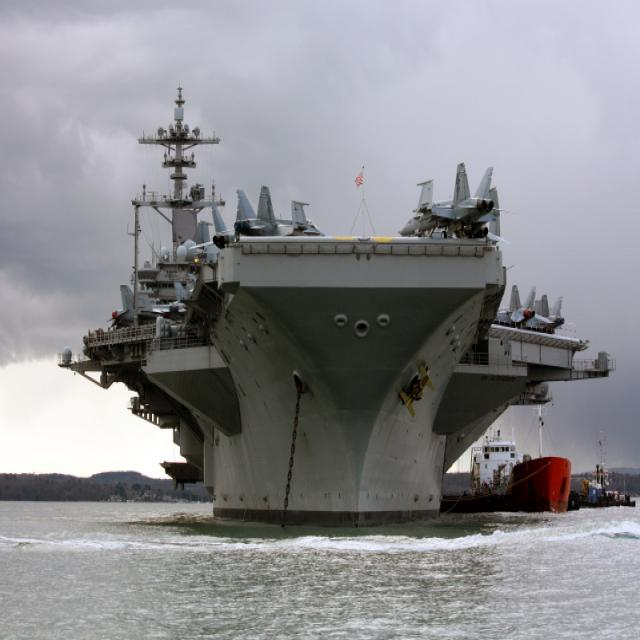Portanaves: (54, 72, 615, 542)
